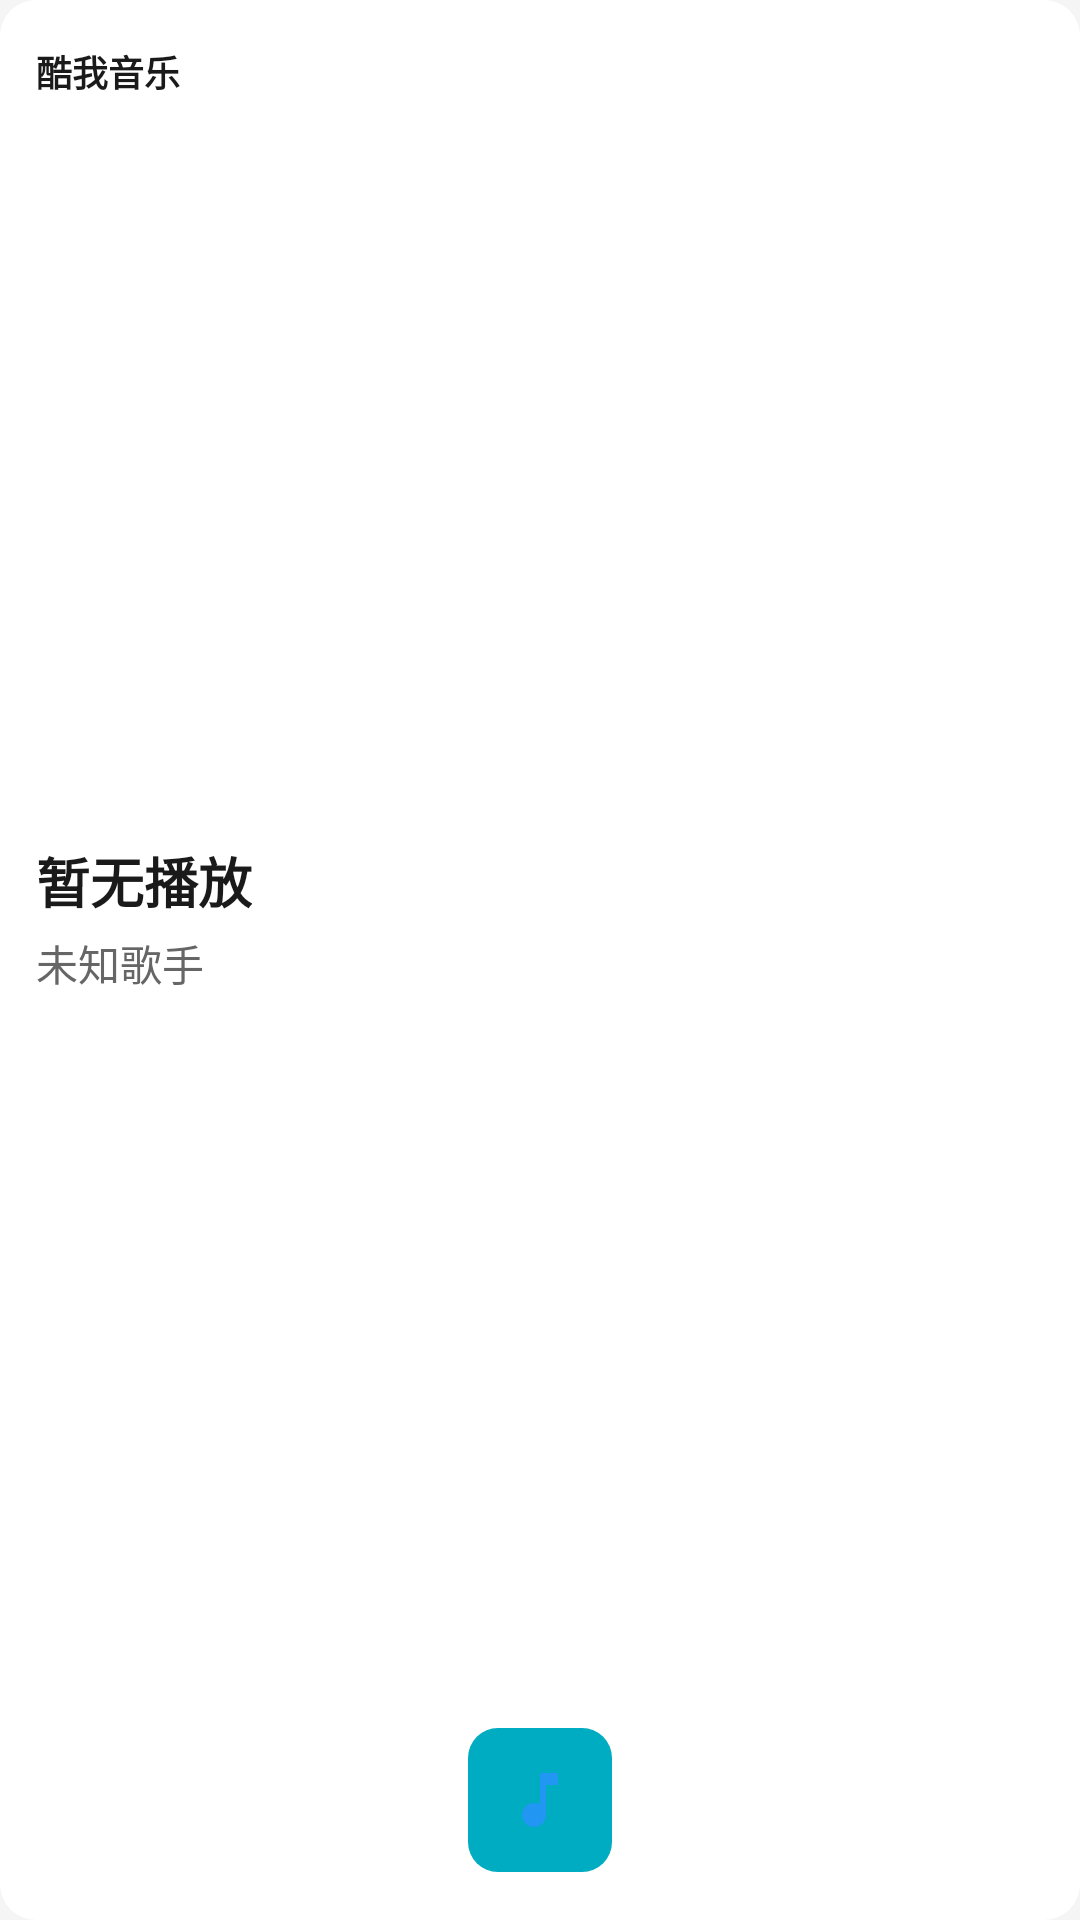

Locate icon controls on the screen. Image size 1080×1920, boxes as bbox=(x1, y1, x2, y2).
music: bbox=(468, 1728, 612, 1872)
